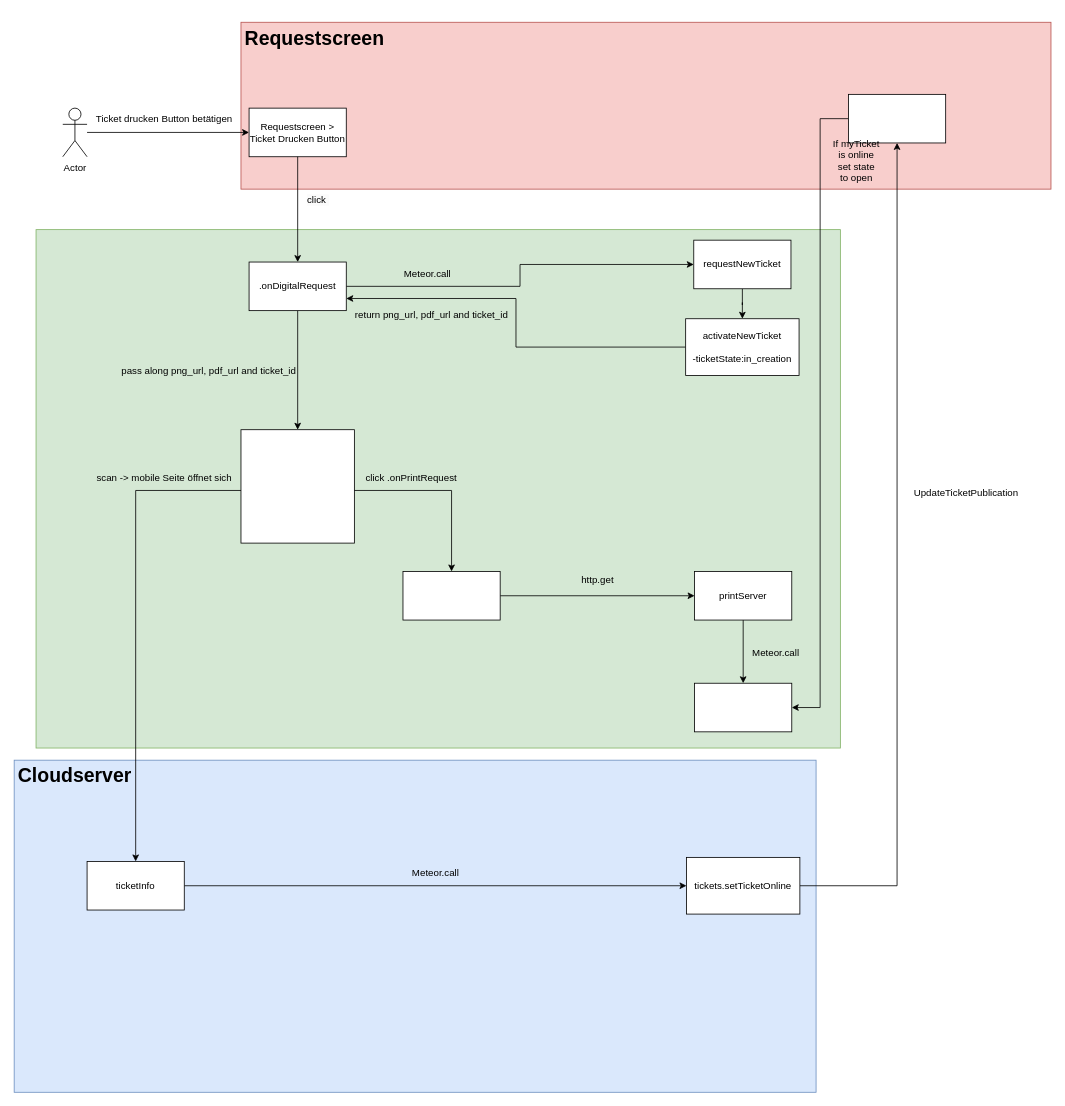
Some shapes in this 1065 by 1106 pixel diagram are drawn without their labels. The shapes that lost their labels are listed below. From the top down, each one's centre as x and y in pixels, then its label:
At pixel 897 118: "PublicationTracker for Tickets.in_creation".
At pixel 297 486: "demo_confirm_modal".
At pixel 451 595: "onPrintRequest".
At pixel 743 707: "tickets.save".
